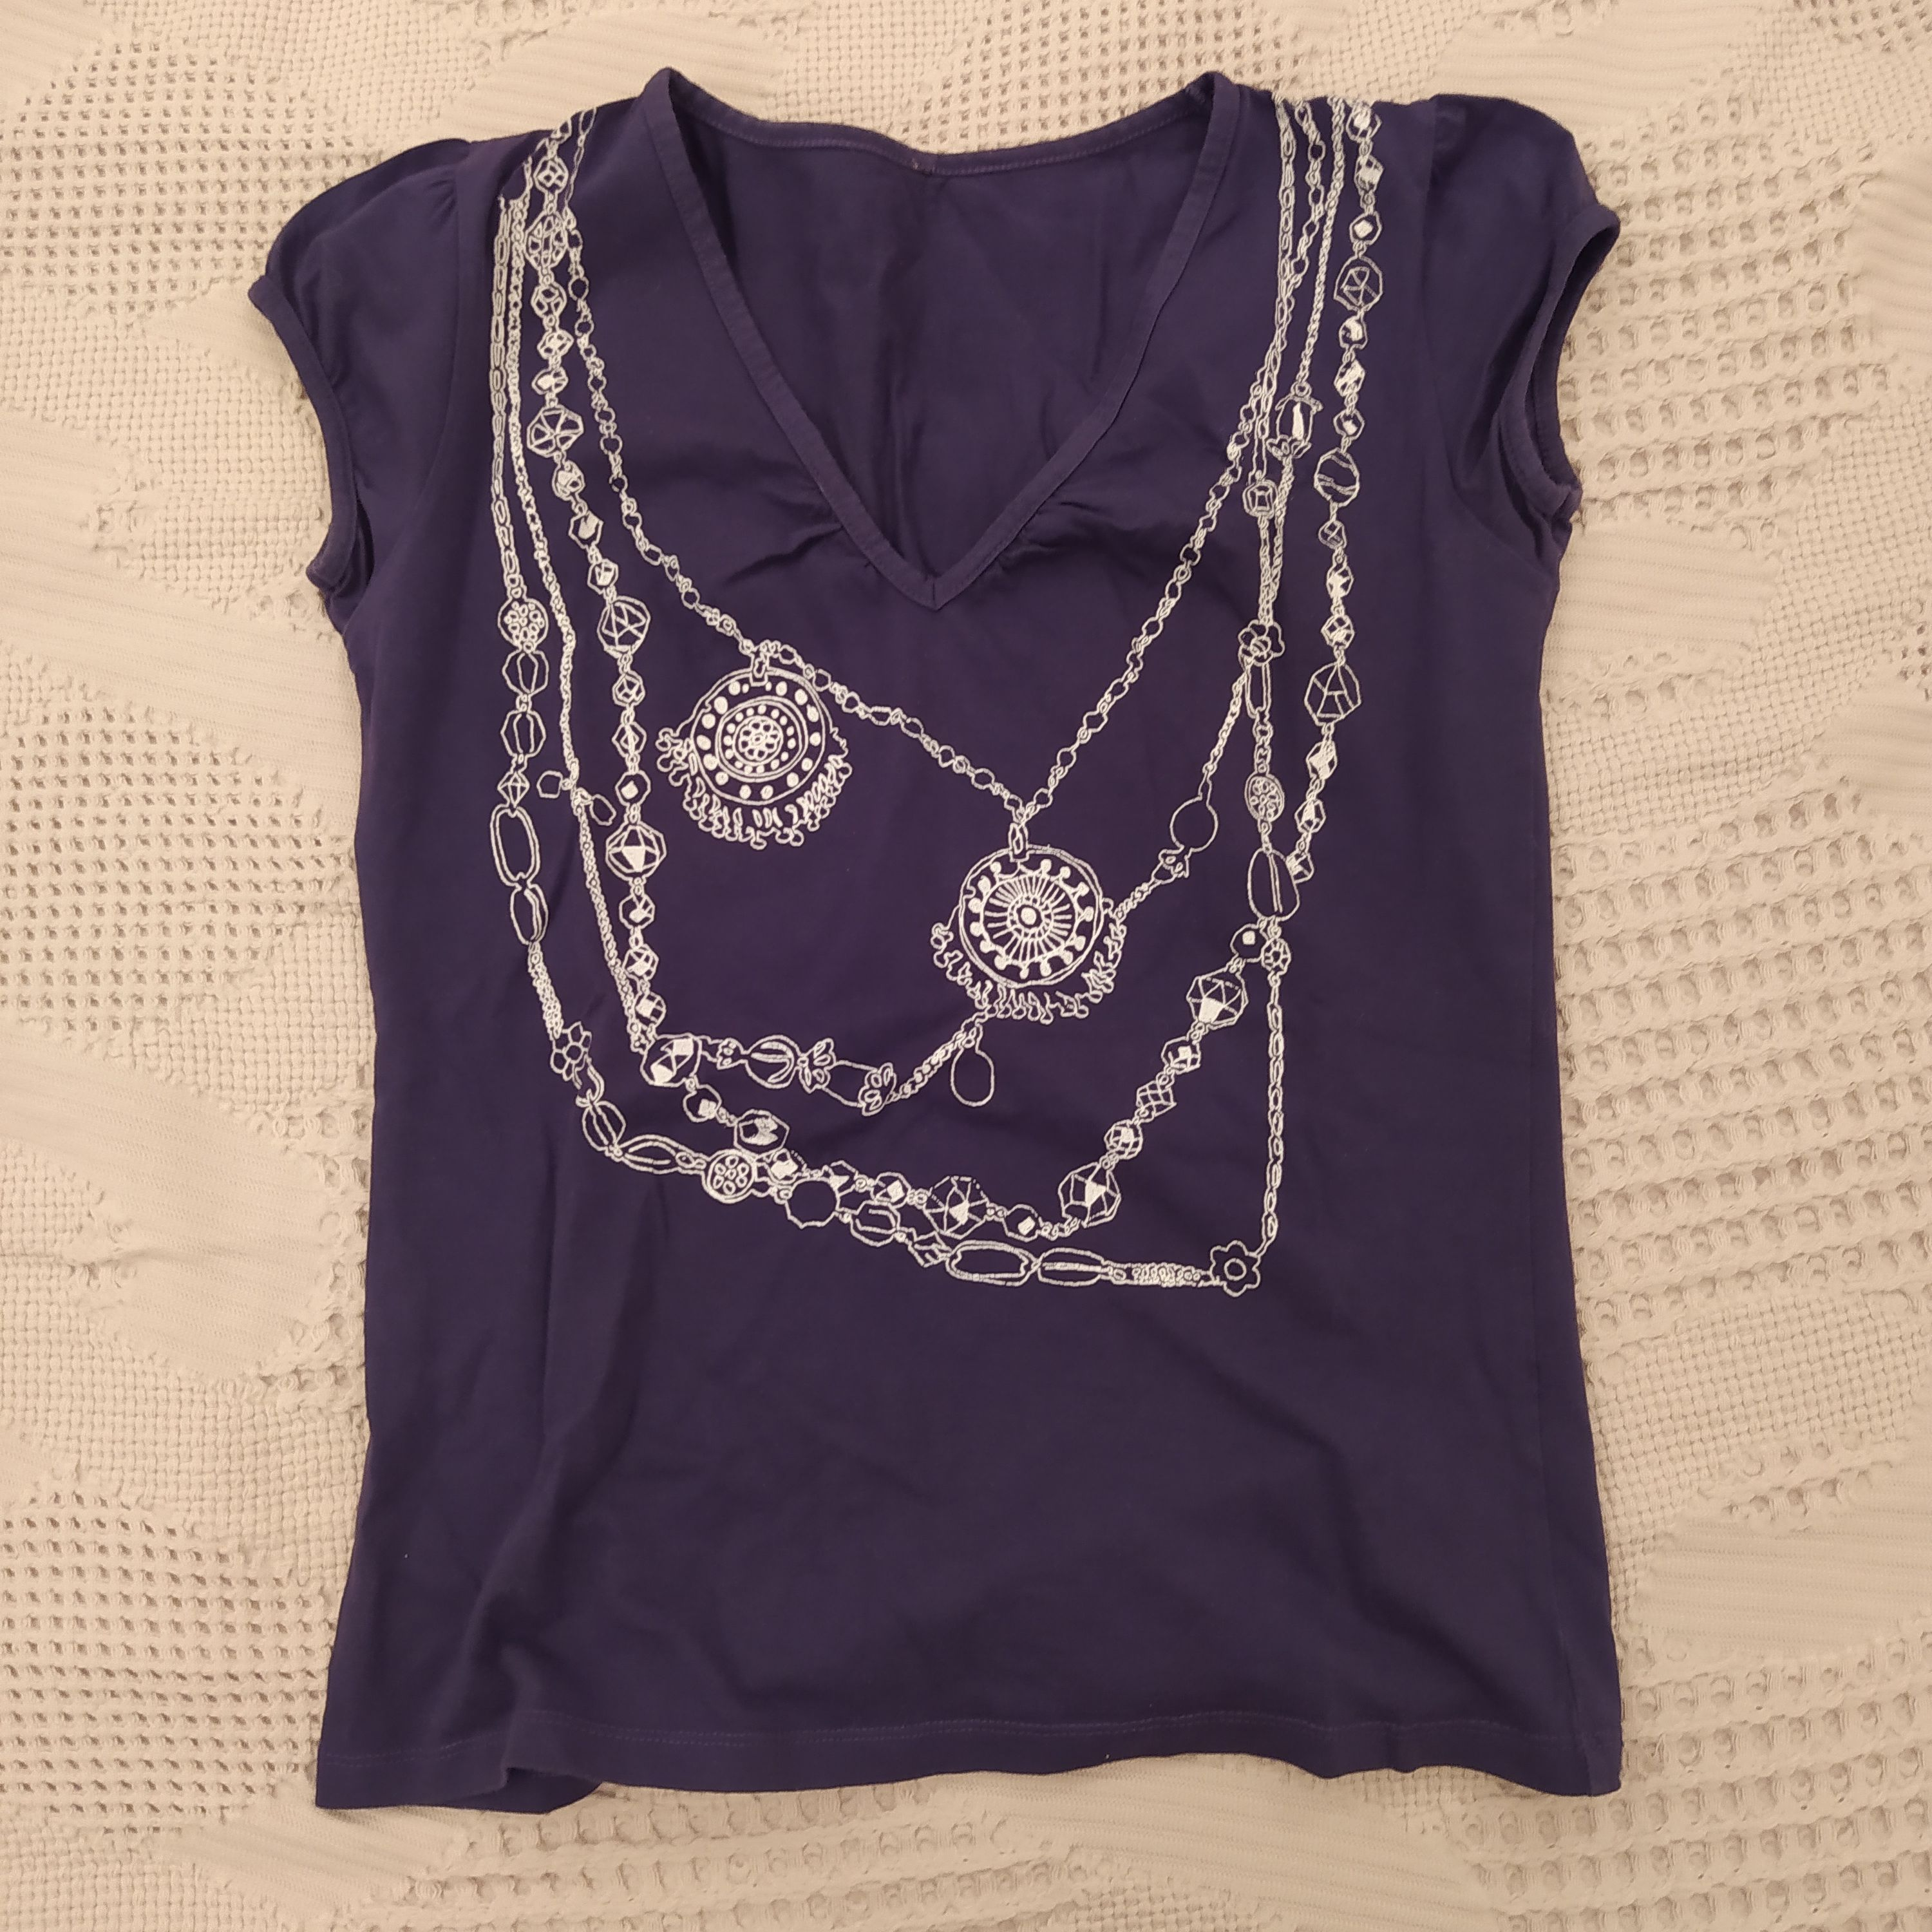clothes: (225, 46, 1663, 1806)
